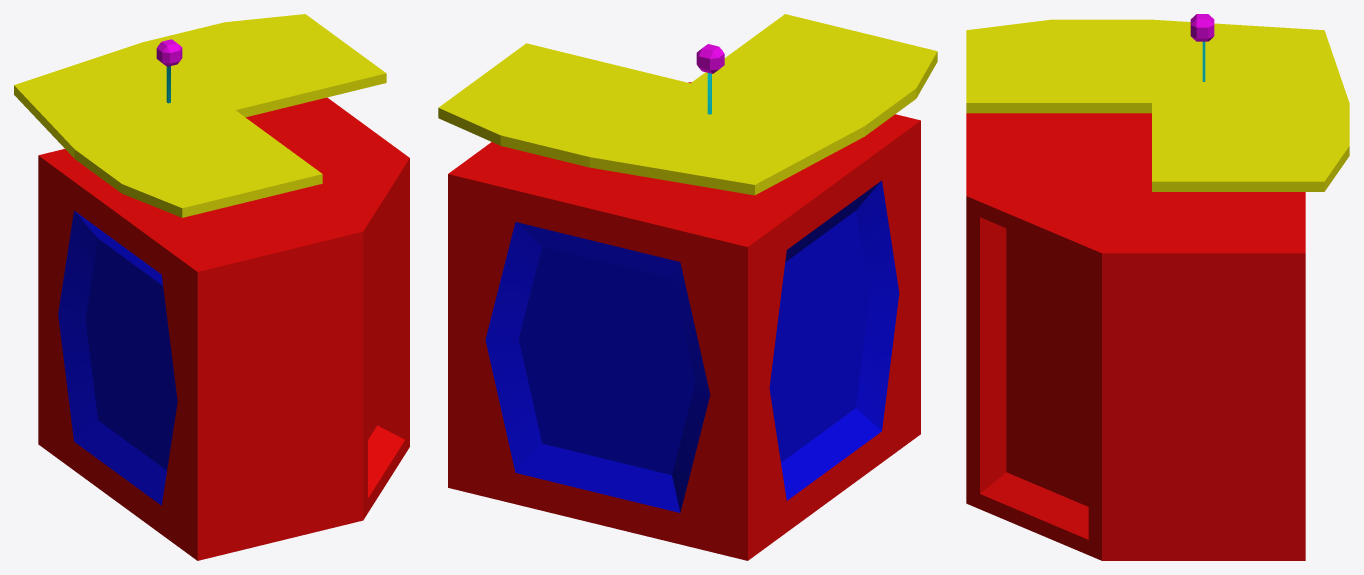
Rendered from Kundentheke_2_ecke_low.fbx.
3 views of the same model, side by side, from view 1: azimuth 30°, elevation 25°; view 2: azimuth 150°, elevation 25°; view 3: azimuth 270°, elevation 25° (orthographic). The views are drawn at different scales.
Visible parts, largest first — view 1: Kundentheke_2_ecke_low; view 2: Kundentheke_2_ecke_low; view 3: Kundentheke_2_ecke_low.
Part boxes in pixels (x1,y1,x2,y2): Kundentheke_2_ecke_low: [14, 14, 409, 560]; Kundentheke_2_ecke_low: [438, 14, 937, 560]; Kundentheke_2_ecke_low: [966, 14, 1349, 560].
Bounding box in the file's own units: 1.13 × 1.44 × 1.13.
